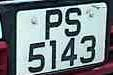1: (46, 40, 61, 73)
3: (77, 34, 97, 65)
4: (58, 38, 78, 68)
5: (24, 42, 47, 73)
P: (43, 7, 64, 42)
S: (62, 6, 83, 40)
